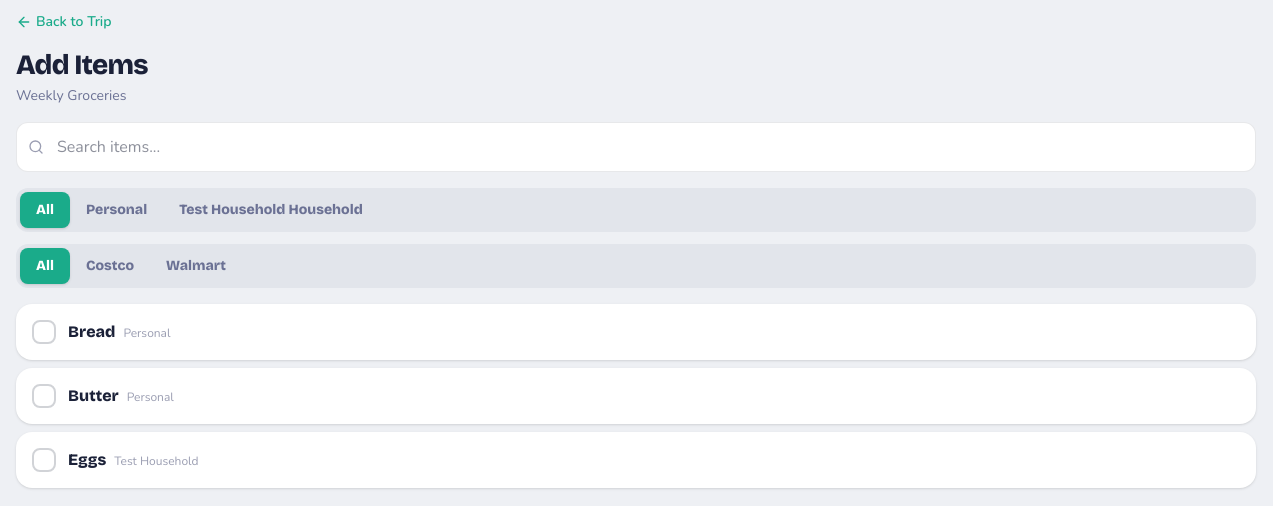
Test: AddTripItemsPage › filters items by selected store
Expected: the text "Bread" is shown, [68,322,115,341]
Expected: the text "Eggs" is shown, [68,450,106,469]
Click the tab "Costco" at (110, 266), box [70,248,150,284]
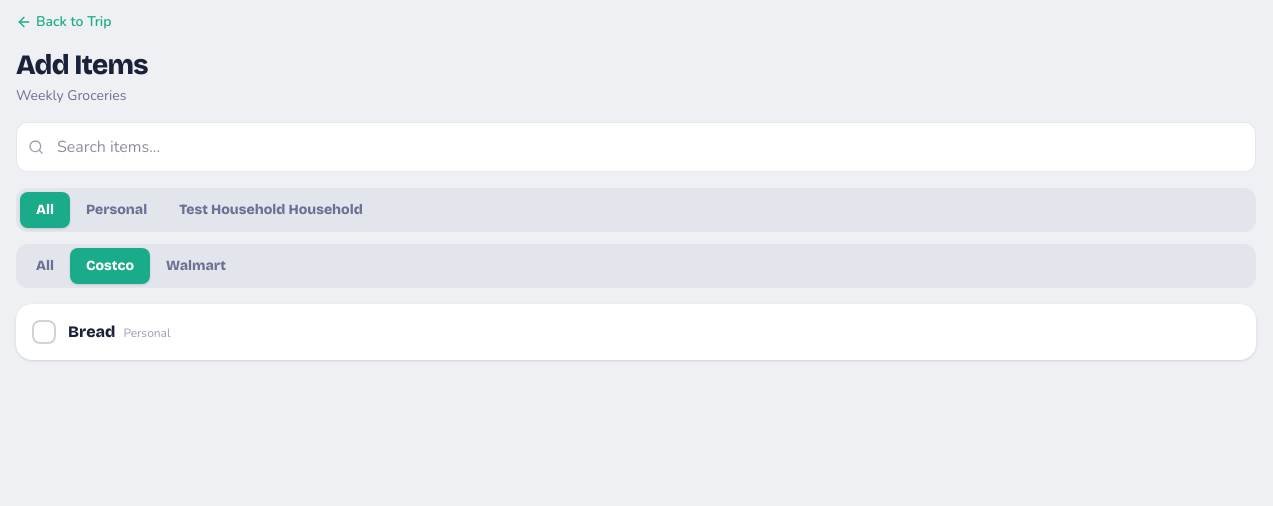
Expected: the text "Bread" is shown, [68,322,115,341]
Expected: the text "Eggs" is gone
Expected: the text "Butter" is gone
